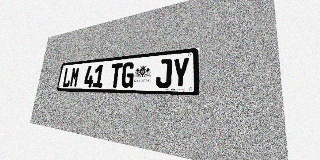1: (92, 64, 105, 87)
4: (83, 65, 95, 87)
G: (121, 62, 135, 88)
J: (155, 59, 172, 88)
L: (62, 67, 72, 87)
M: (69, 67, 80, 87)
T: (109, 63, 123, 88)
Y: (171, 57, 190, 88)
